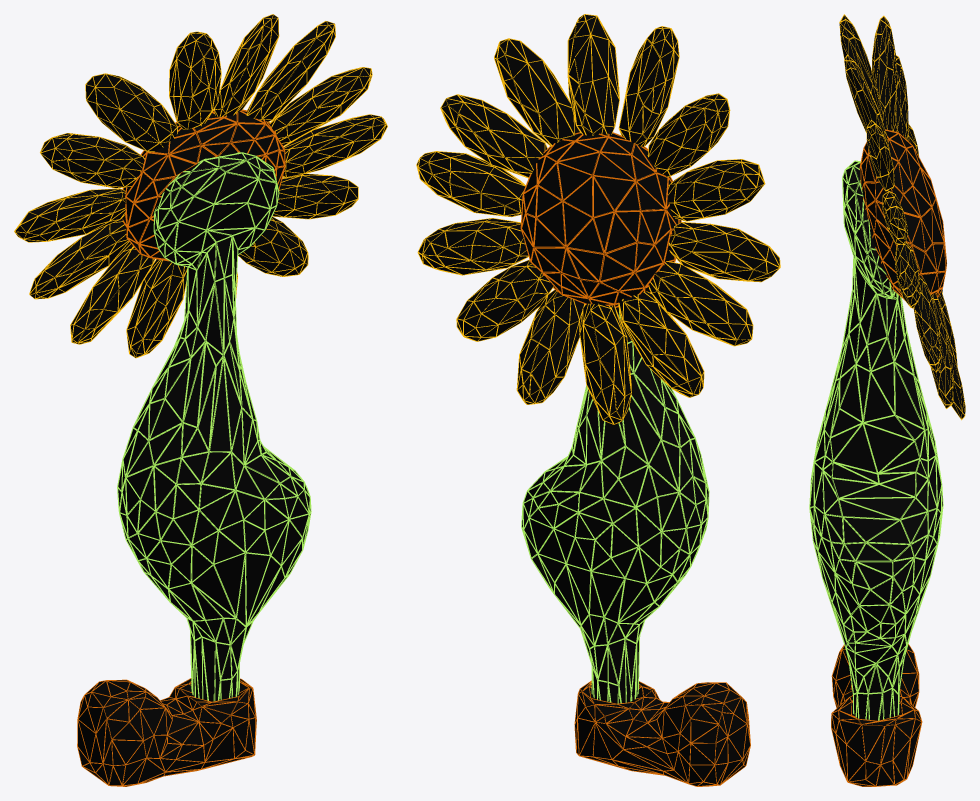
The model's file is neonflower.glb.
3 views of the same model, side by side, from view 1: azimuth 30°, elevation 25°; view 2: azimuth 150°, elevation 25°; view 3: azimuth 270°, elevation 25° (orthographic). The views are drawn at different scales.
Parts seen in each view (by area): view 1: body.002, petal.002, body.001, petal.001, boot.002, head.002, boot.001, head.001; view 2: petal.002, body.002, petal.001, head.002, boot.002, body.001, head.001, boot.001; view 3: body.002, body.001, petal.002, boot.002, head.002, petal.001, head.001, boot.001.
Part boxes in pixels (x1,y1,x2,y2): body.002: [118, 153, 310, 701]; petal.002: [15, 14, 386, 357]; body.001: [117, 152, 311, 701]; petal.001: [14, 14, 387, 358]; boot.002: [78, 679, 256, 786]; head.002: [122, 111, 284, 258]; boot.001: [77, 678, 256, 786]; head.001: [122, 109, 285, 261]; petal.002: [417, 14, 779, 423]; body.002: [522, 307, 708, 703]; petal.001: [416, 14, 780, 424]; head.002: [522, 133, 680, 306]; boot.002: [575, 682, 750, 785]; body.001: [521, 310, 709, 703]; head.001: [520, 132, 681, 307]; boot.001: [574, 680, 750, 786]; body.002: [810, 161, 942, 720]; body.001: [809, 160, 943, 720]; petal.002: [839, 15, 965, 418]; boot.002: [831, 645, 921, 786]; head.002: [860, 131, 946, 296]; petal.001: [839, 14, 965, 420]; head.001: [859, 129, 946, 300]; boot.001: [831, 644, 922, 786].
Size of the model in its own units: 2.73 by 5.19 by 0.9939.
